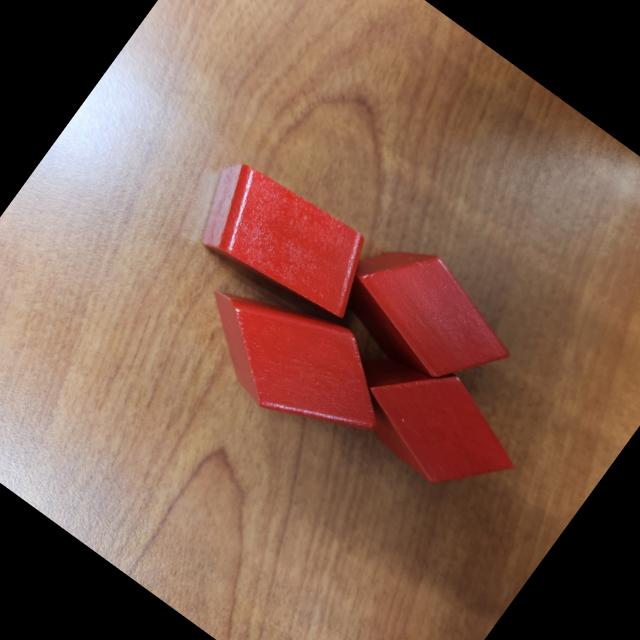red: (173, 250, 417, 472), (319, 216, 534, 414), (178, 146, 392, 342), (342, 338, 539, 522)
